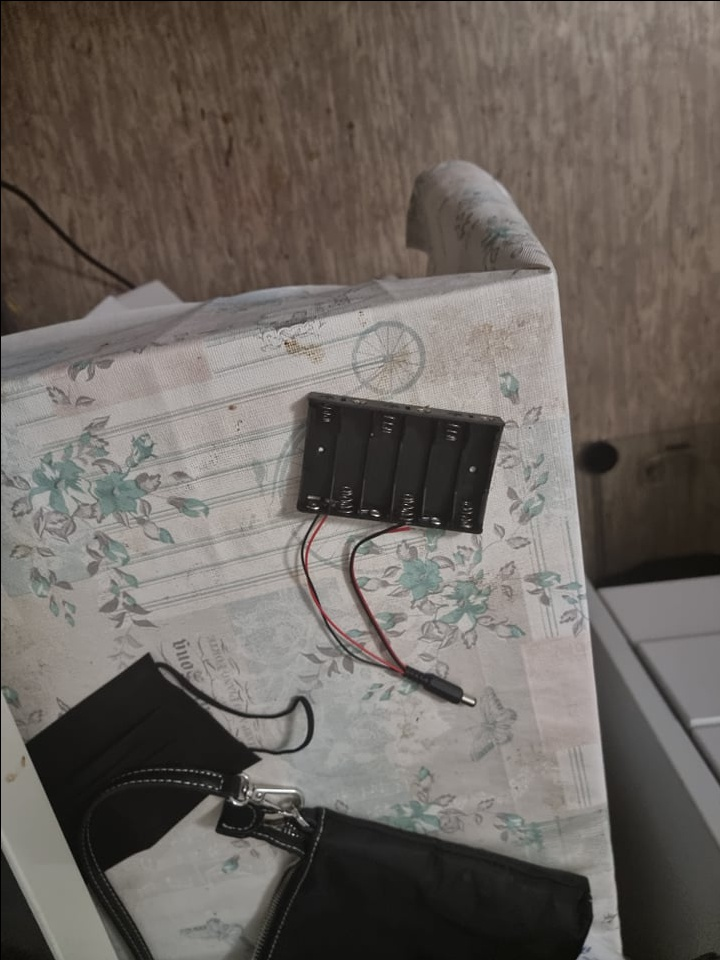BATTERY BOX: (296, 385, 504, 540)
